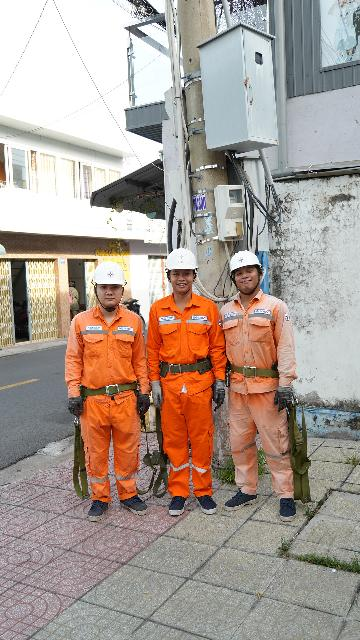gloves: (265, 382, 305, 421), (201, 373, 229, 413), (134, 394, 162, 419), (66, 397, 86, 427), (153, 374, 165, 413)
harness: (216, 354, 286, 387), (74, 376, 149, 405), (150, 353, 223, 380)
helmet: (78, 261, 131, 295), (161, 248, 205, 278), (217, 253, 267, 270)
shoes: (221, 479, 265, 514), (119, 489, 156, 520), (78, 492, 114, 521), (278, 487, 300, 528), (194, 487, 223, 514), (161, 489, 187, 519)
